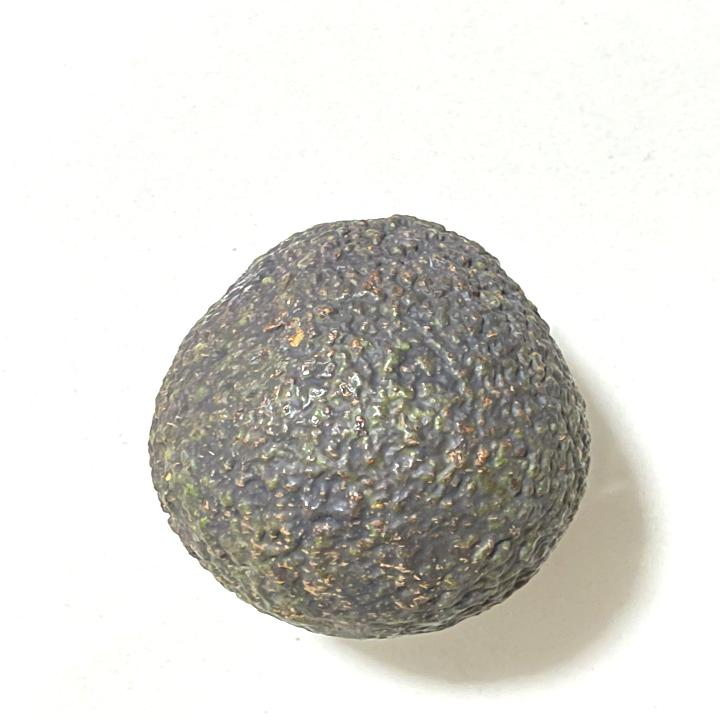Level1: (125, 198, 610, 648)
